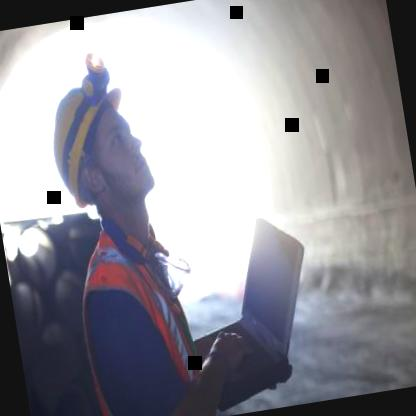helmet: (40, 69, 161, 224)
